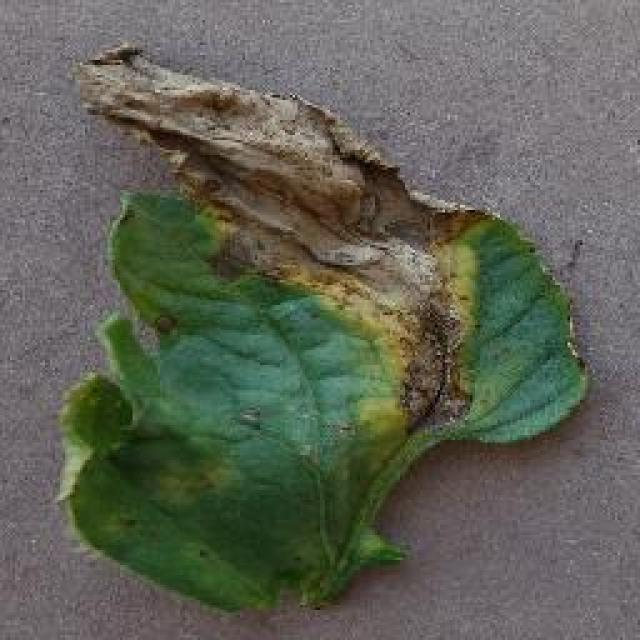Tomato___Early_blight: (57, 43, 591, 619)
